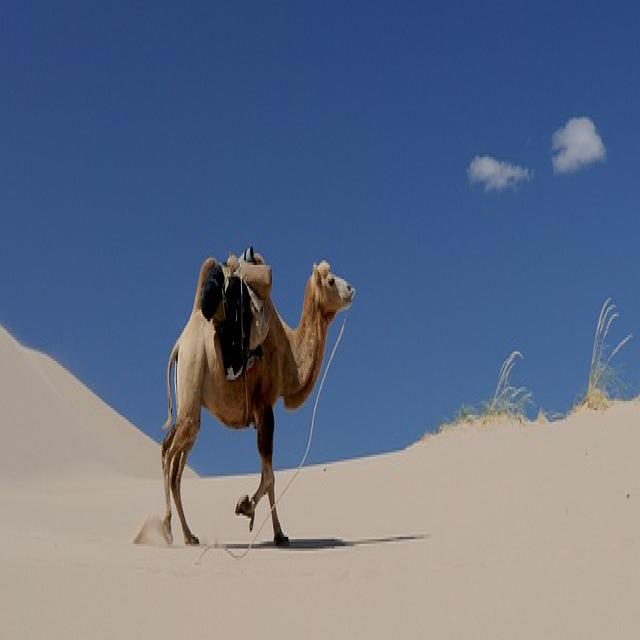Herbivorous: (135, 248, 356, 546)
